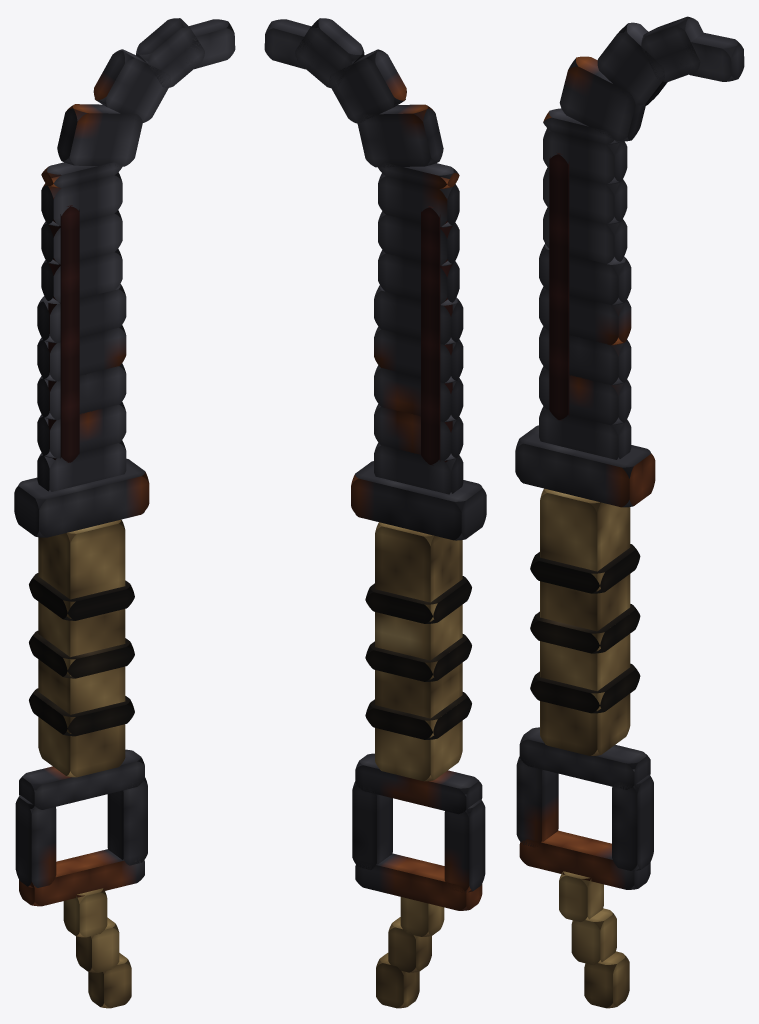
Rendered from gibbet_knives.obj.
3 renders of one model, left to right at view 1: azimuth 30°, elevation 25°; view 2: azimuth 150°, elevation 25°; view 3: azimuth 330°, elevation 25°, orthographic. The views are drawn at different scales.
Parts seen in each view (by area): view 1: lit; view 2: lit; view 3: lit.
Boxes of the visible parts, x1,y1,x2,y2 form: lit: (14,18,235,1008); lit: (264,18,486,1008); lit: (515,16,744,1008).
Bounding box in the file's own units: 0.4198 × 1.88 × 0.1375.
